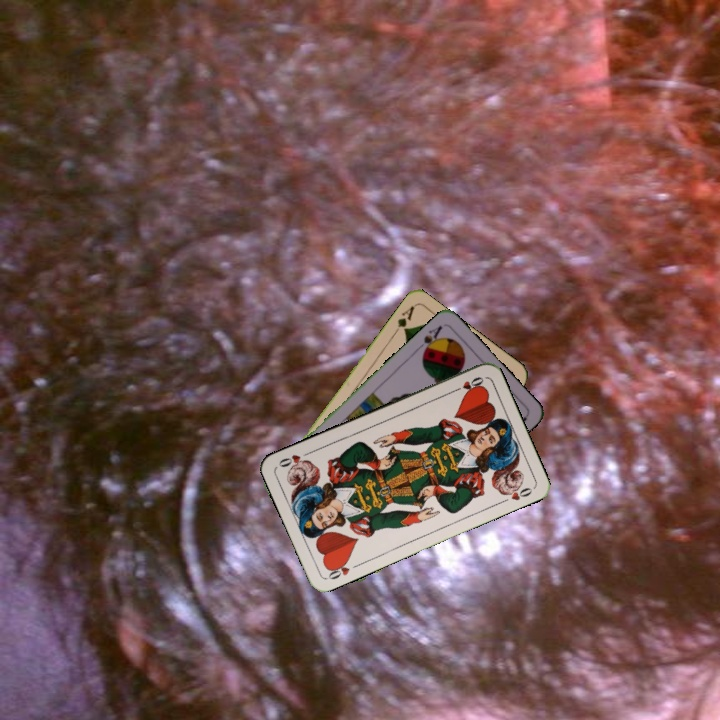GA: (389, 302, 417, 338)
HO: (323, 556, 362, 582), (448, 373, 486, 395)
SA: (412, 321, 445, 358)
